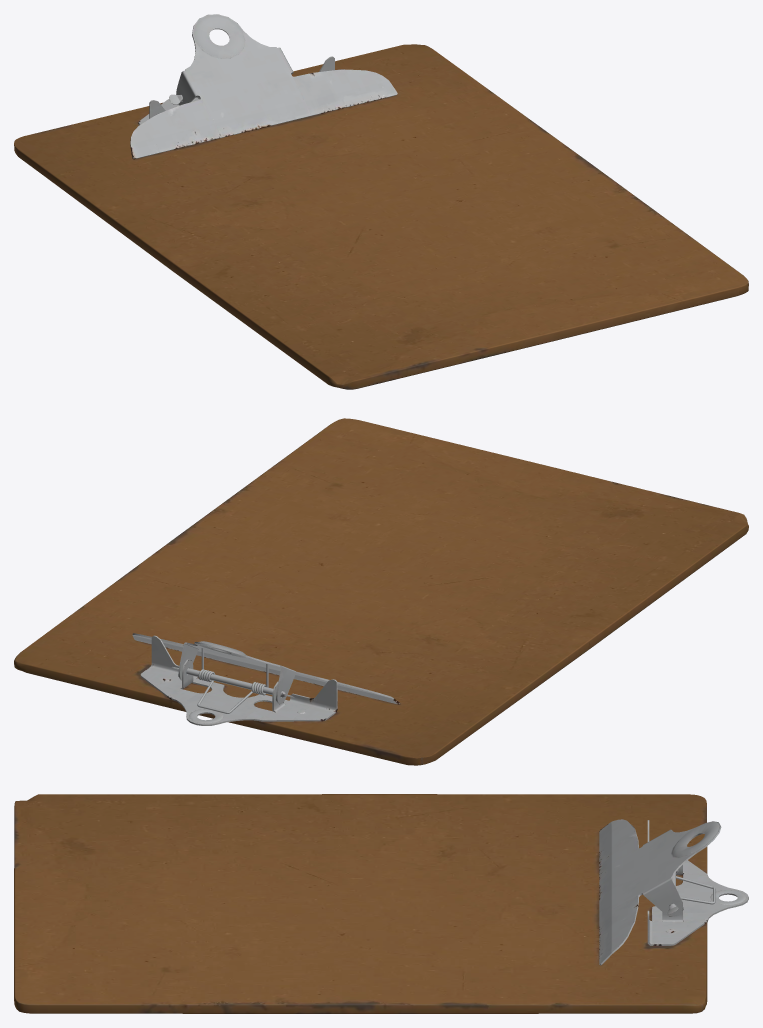
The model's file is clipboard.glb.
The picture shows the model from 3 angles, top to bottom: view 1: azimuth 30°, elevation 25°; view 2: azimuth 150°, elevation 25°; view 3: azimuth 270°, elevation 25°; orthographic projection. The views are drawn at different scales.
Visible parts, largest first — view 1: clipboard; view 2: clipboard; view 3: clipboard.
Part boxes in pixels (bbox=[...]): clipboard: bbox=[14, 14, 748, 389]; clipboard: bbox=[14, 418, 748, 765]; clipboard: bbox=[14, 794, 748, 1013].
Bounding box in the file's own units: 0.2286 × 0.042 × 0.3366.
Materials: 1 (1 with a texture image).
